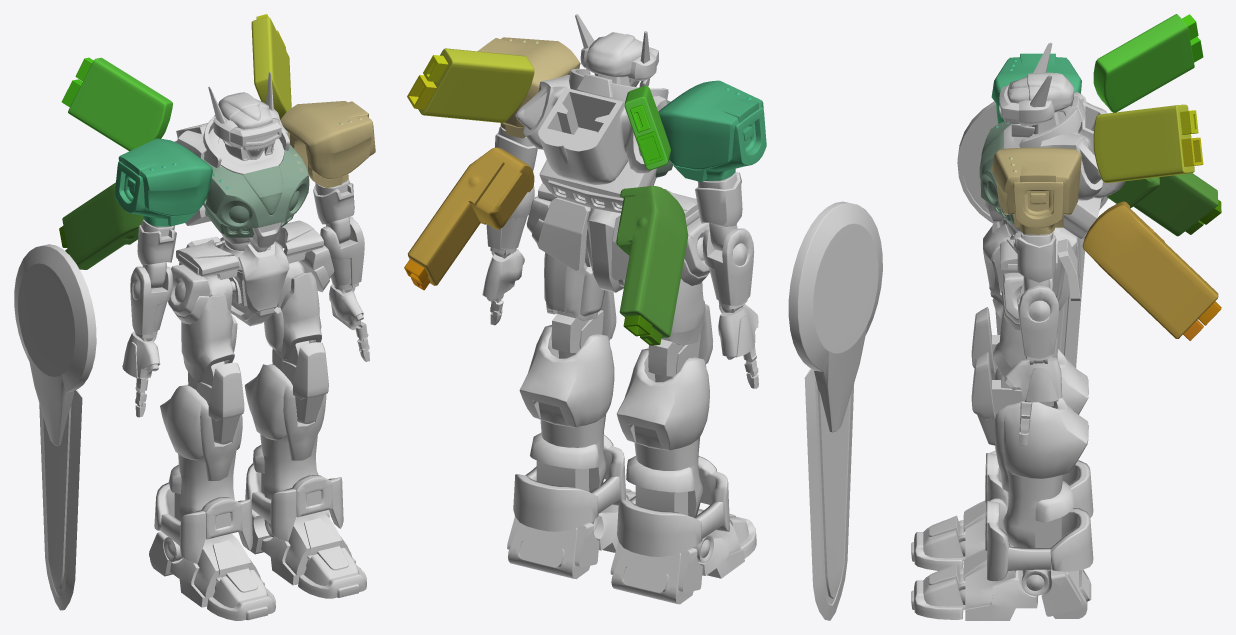
File: DC_Robot_low.fbx
The picture shows the model from 3 angles, left to right: view 1: azimuth 30°, elevation 25°; view 2: azimuth 150°, elevation 25°; view 3: azimuth 270°, elevation 25°; orthographic projection. The views are drawn at different scales.
Visible parts, largest first — view 1: m_shield_low, m_shoulder_r_low, m_vmu_right_low, m_leg_lower_r_low_ignorebf, m_leg_lower_r_low, m_sword_low, m_chest_low, m_shoulder_l_low_ignorebf, m_jump_c_r_low, m_ankle_low, m_ankle_low_ignorebf, m_femur_low (+26 smaller); view 2: m_shield_low, m_leg_lower_r_low_ignorebf, m_leg_lower_r_low, m_back_low, m_jump_c_r_low, m_shoulder_r_low, m_sword_low, m_jump_c_l_low_ignorebf, m_vmu_left_low_ignorebf, m_ankle_low, m_ankle_low_ignorebf, m_heel_r_low (+28 smaller); view 3: m_leg_lower_r_low_ignorebf, m_jump_c_l_low_ignorebf, m_vmu_left_low_ignorebf, m_shoulder_l_low_ignorebf, m_vmu_right_low, m_ankle_low_ignorebf, m_jump_c_r_low, m_feet_r_low_ignorebf, m_arm_lower_l_low_ignorebf, m_back_low, m_shield_low, m_toe_r_low_ignorebf (+24 smaller).
Part boxes in pixels (x1,y1,x2,y2): m_shield_low: (14, 244, 96, 445); m_shoulder_r_low: (114, 138, 212, 226); m_vmu_right_low: (61, 57, 172, 151); m_leg_lower_r_low_ignorebf: (244, 364, 326, 499); m_leg_lower_r_low: (160, 384, 242, 520); m_sword_low: (39, 389, 82, 610); m_chest_low: (203, 145, 309, 237); m_shoulder_l_low_ignorebf: (280, 101, 375, 188); m_jump_c_r_low: (59, 182, 143, 269); m_ankle_low: (154, 482, 252, 563); m_ankle_low_ignorebf: (245, 463, 343, 541); m_femur_low: (181, 274, 237, 383); m_shield_low: (788, 201, 882, 432); m_leg_lower_r_low_ignorebf: (519, 325, 614, 492); m_leg_lower_r_low: (616, 348, 709, 517); m_back_low: (515, 74, 666, 184); m_jump_c_r_low: (616, 186, 688, 345); m_shoulder_r_low: (658, 80, 766, 181); m_sword_low: (804, 368, 854, 620); m_jump_c_l_low_ignorebf: (404, 147, 534, 290); m_vmu_left_low_ignorebf: (407, 48, 534, 122); m_ankle_low: (617, 456, 729, 556); m_ankle_low_ignorebf: (513, 435, 625, 531); m_heel_r_low: (610, 541, 702, 604); m_leg_lower_r_low_ignorebf: (994, 398, 1088, 547); m_jump_c_l_low_ignorebf: (1082, 201, 1221, 340); m_vmu_left_low_ignorebf: (1093, 104, 1203, 182); m_shoulder_l_low_ignorebf: (991, 147, 1081, 234); m_vmu_right_low: (1093, 14, 1203, 112); m_ankle_low_ignorebf: (985, 498, 1093, 581); m_jump_c_r_low: (1106, 173, 1221, 236); m_feet_r_low_ignorebf: (963, 544, 1038, 620); m_arm_lower_l_low_ignorebf: (1017, 284, 1059, 360); m_back_low: (1040, 92, 1125, 200); m_shield_low: (957, 101, 1108, 223); m_toe_r_low_ignorebf: (911, 564, 963, 619).
Size of the model in its own units: 13.04 by 18.57 by 9.99.
